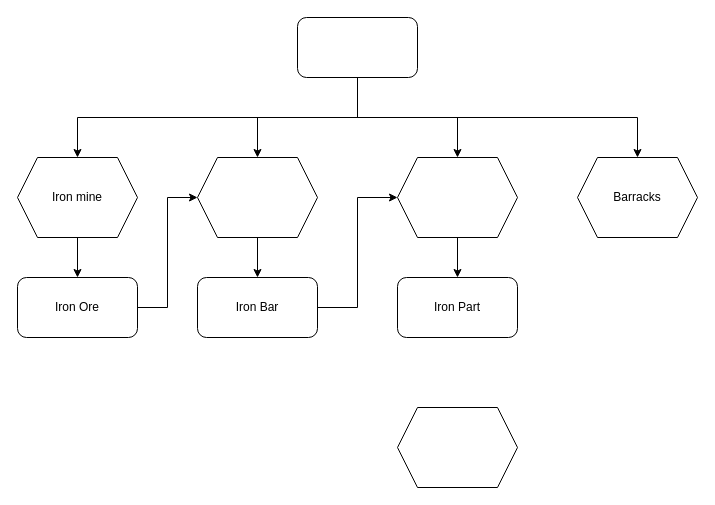
Some shapes in this 715 by 505 pixel diagram are drawn without their labels. The shapes that lost their labels are listed below. From the top down, each one's centre as x and y in pixels, then its label:
At (x=357, y=47): "Protagonist".
At (x=257, y=197): "Foundry".
At (x=457, y=197): "Metal Workshop".
